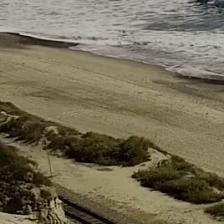surfer: (205, 0, 209, 3)
